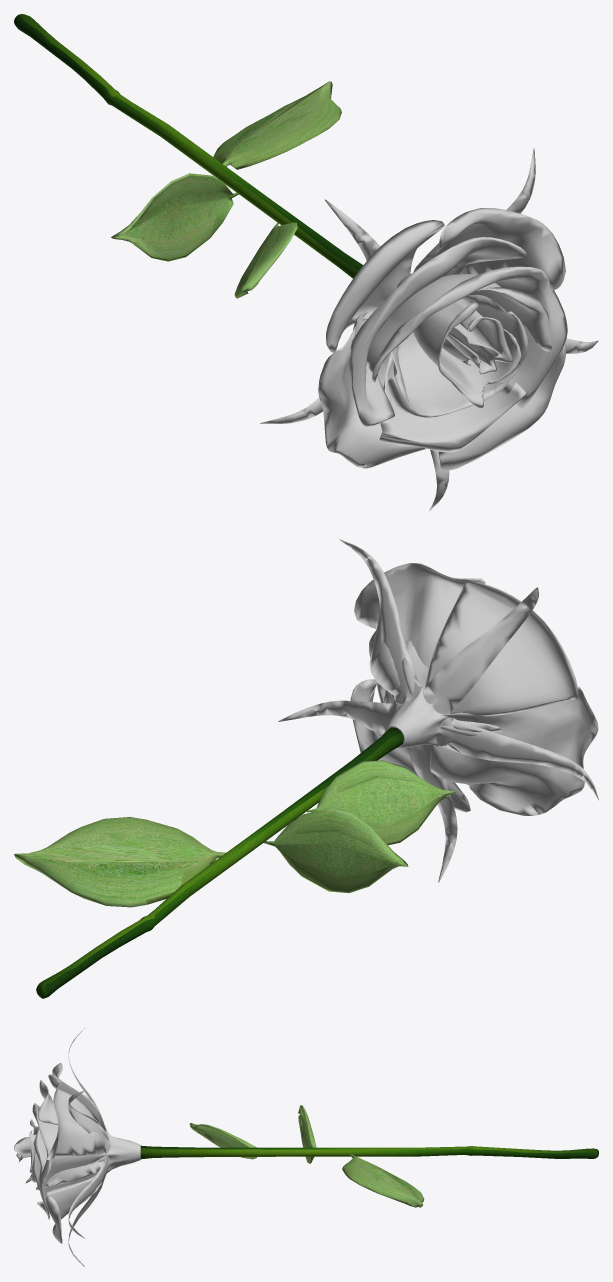
The model's file is rose.gltf.
The picture shows the model from 3 angles, top to bottom: view 1: azimuth 30°, elevation 25°; view 2: azimuth 150°, elevation 25°; view 3: azimuth 270°, elevation 25°; orthographic projection. The views are drawn at different scales.
Parts seen in each view (by area): view 1: rose_LOD0; view 2: rose_LOD0; view 3: rose_LOD0.
Part boxes in pixels (x1,y1,x2,y2): rose_LOD0: [14, 14, 598, 510]; rose_LOD0: [14, 539, 598, 998]; rose_LOD0: [14, 1028, 598, 1266].
Size of what is drawn, in the model's own units: 36.19 by 33.87 by 86.13.
